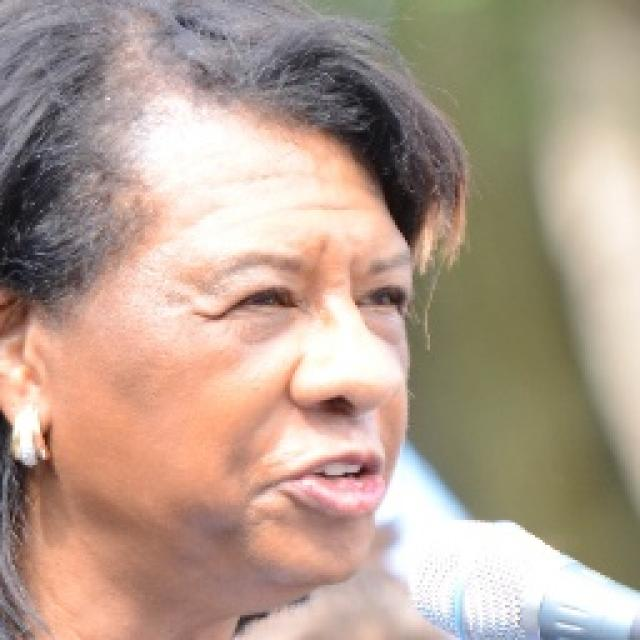earlobe: (8, 379, 54, 436)
eye: (234, 288, 295, 312), (353, 284, 405, 311)
nose: (291, 385, 424, 459)
wholeear: (0, 280, 55, 436)
